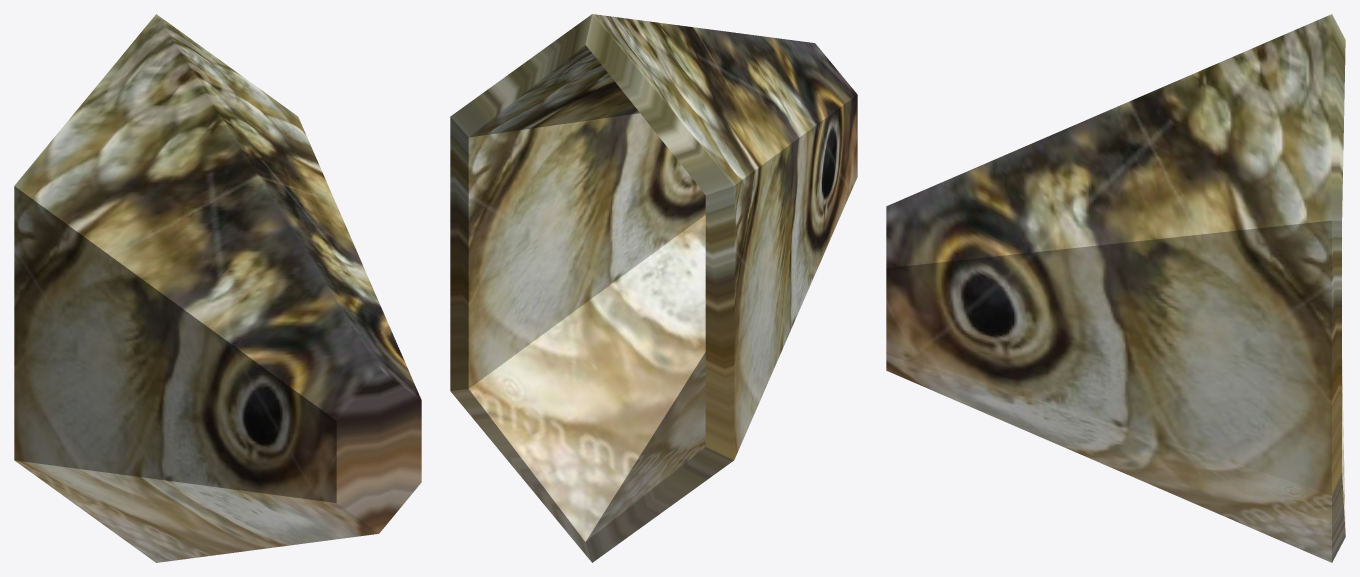
Rendered from fisMask.fbx.
The picture shows the model from 3 angles, left to right: view 1: azimuth 30°, elevation 25°; view 2: azimuth 150°, elevation 25°; view 3: azimuth 270°, elevation 25°; orthographic projection.
Visible parts, largest first — view 1: Fis Mask; view 2: Fis Mask; view 3: Fis Mask.
Boxes of the visible parts, box(x1,y1,x2,y2) form: Fis Mask: box(14, 14, 421, 562); Fis Mask: box(450, 14, 857, 562); Fis Mask: box(886, 14, 1345, 562).
Size of the model in its own units: 0.104 by 0.1921 by 0.1456.
